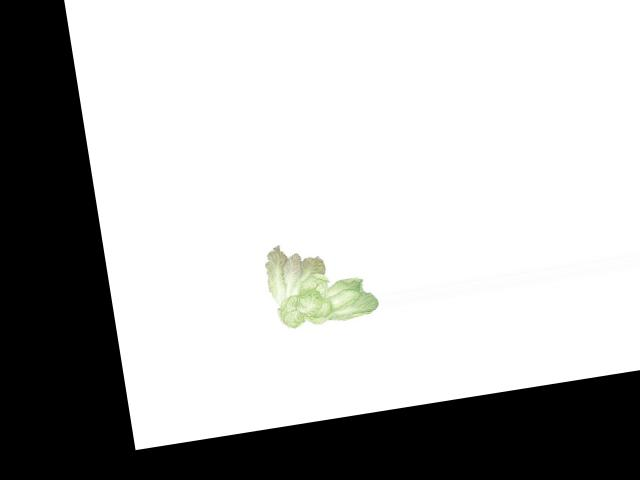lettuce: (259, 226, 382, 337)
